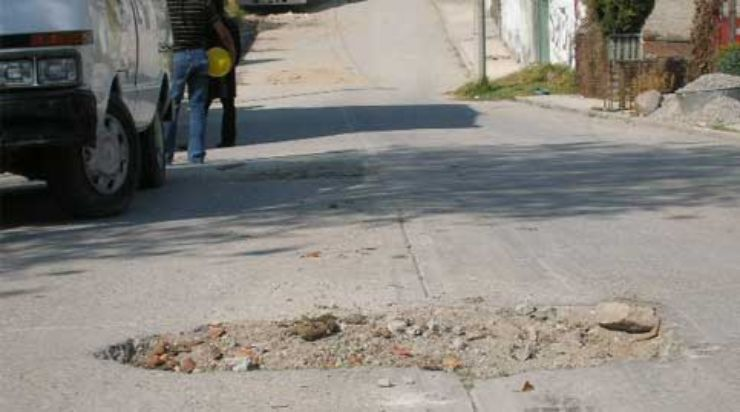pothole: (90, 297, 679, 377)
